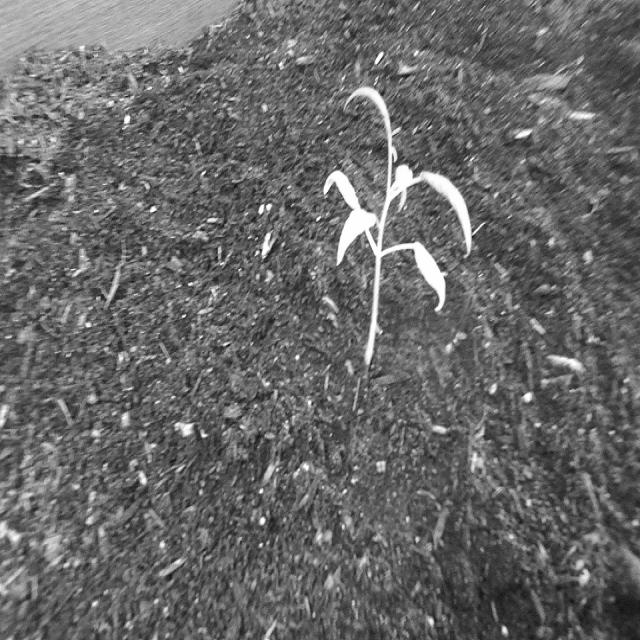Healthy: (318, 75, 475, 382)
